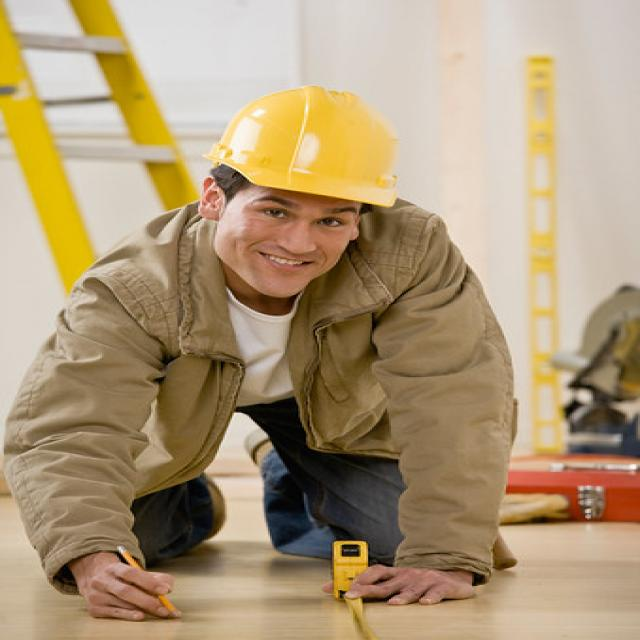Safety-Helmet: (202, 84, 410, 205)
